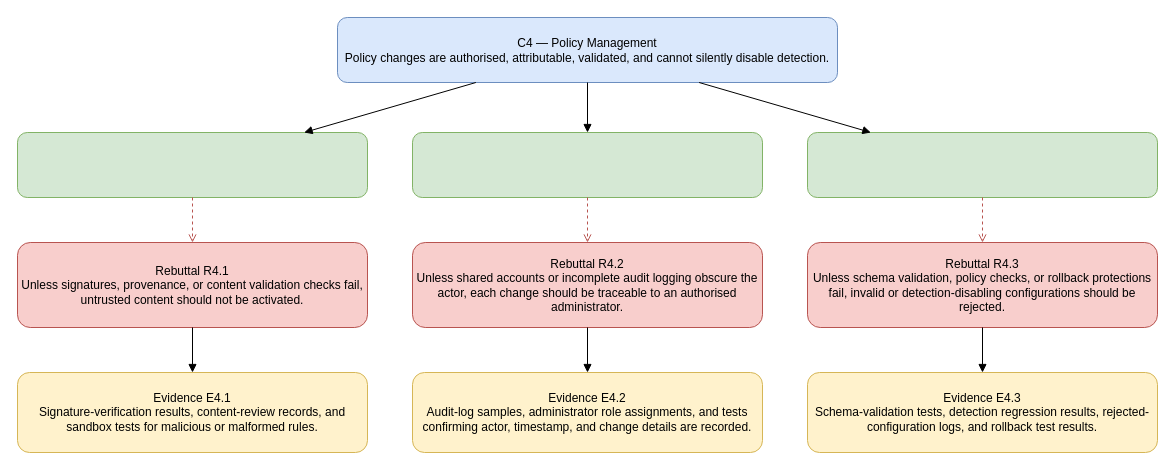
Some shapes in this 1175 by 470 pixel diagram are drawn without their labels. The shapes that lost their labels are listed below. From the top down, each one's box as (x1, y1, x2, y2) in pixels, then its label:
(16, 132, 368, 198): Subclaim C4.1 Hub content is verified before use.
(412, 132, 762, 198): Subclaim C4.2 Administrative policy changes are attributable.
(806, 132, 1158, 198): Subclaim C4.3 Invalid configurations cannot be activated.
